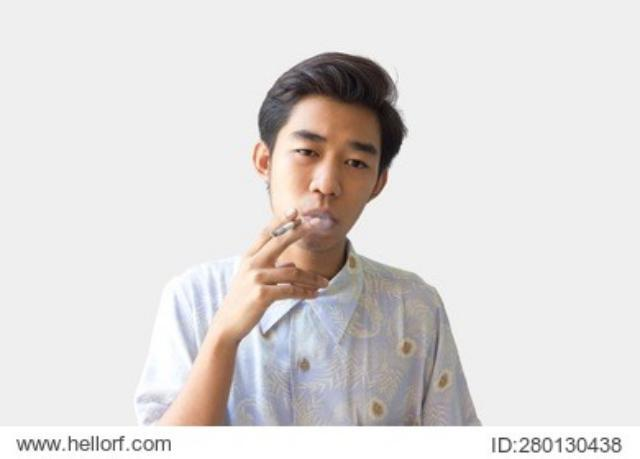SafeDriving: (284, 132, 326, 164), (338, 146, 376, 176)
Smoking: (258, 210, 314, 242)
